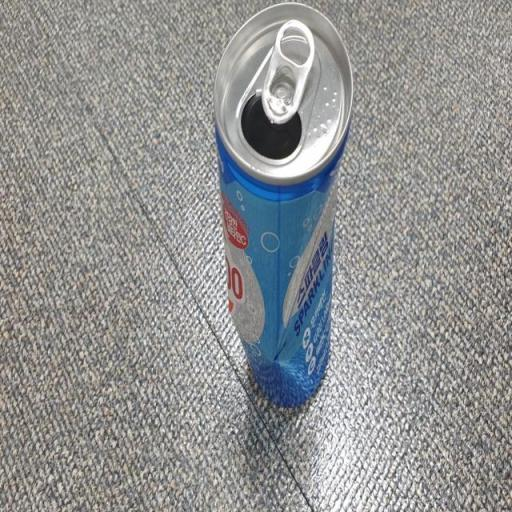metal: (195, 0, 374, 446)
